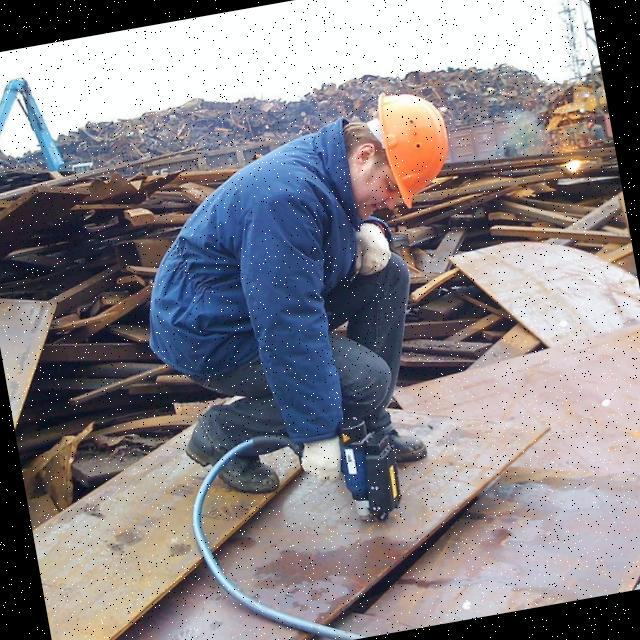Helmet: (374, 84, 462, 211)
NoJacket: (186, 128, 413, 389)
